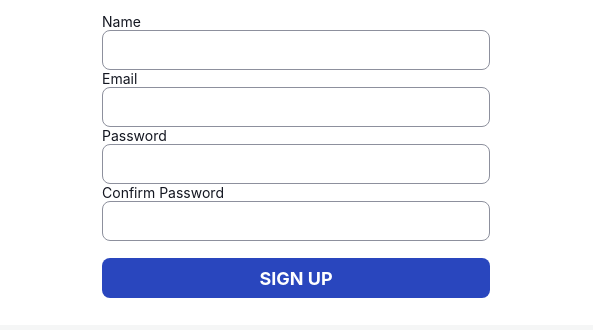
Test: SignUpForm Testing... › If confirm password is not correct to password
The width and height of the screenshot is (593, 330).
Type "jestTest" into the field labelled "Name" at point(296, 50), box [102, 30, 490, 70]
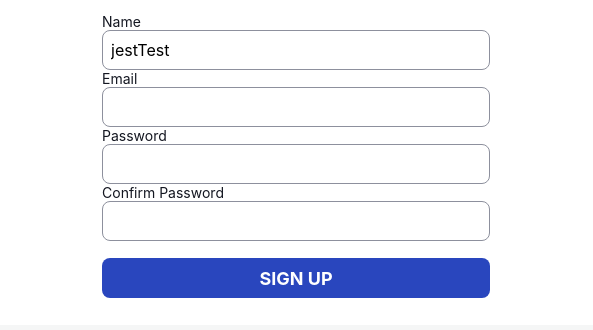
Type "test@jest.com" into the field labelled "Email" at point(296, 107), box [102, 87, 490, 127]
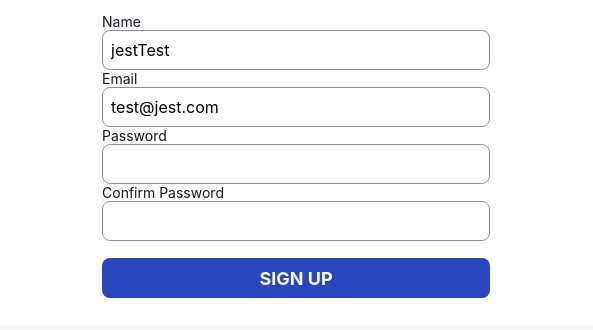
Type "12345123" into the password field labelled "Password" at point(296, 164), box [102, 144, 490, 184]
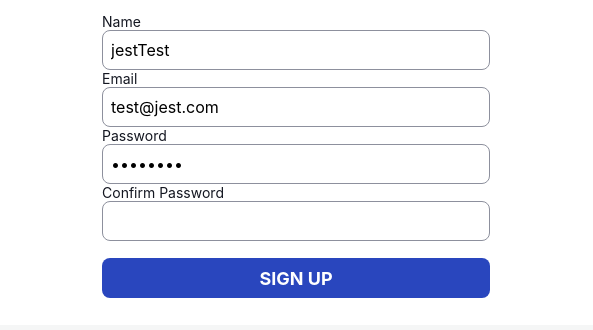
Type "1234123123" into the password field labelled "Confirm Password" at point(296, 221), box [102, 201, 490, 241]
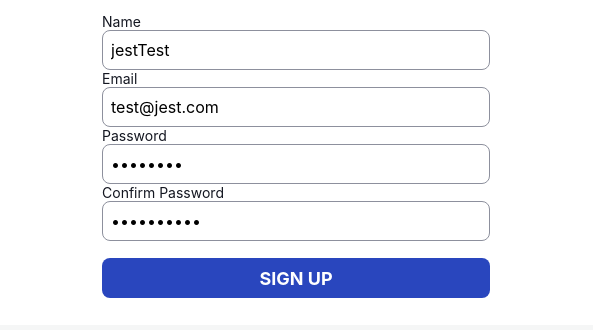
Click the button at point(296, 278), box [102, 258, 490, 298]
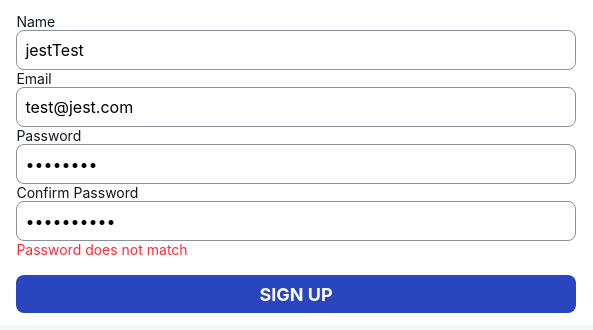
Expected: the text "Password does not match" is shown, [16, 241, 188, 258]
